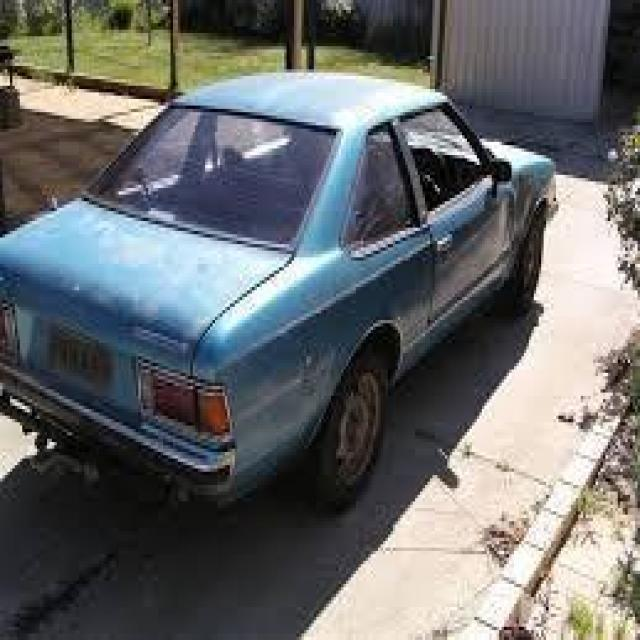damaged: (492, 172, 536, 284)
